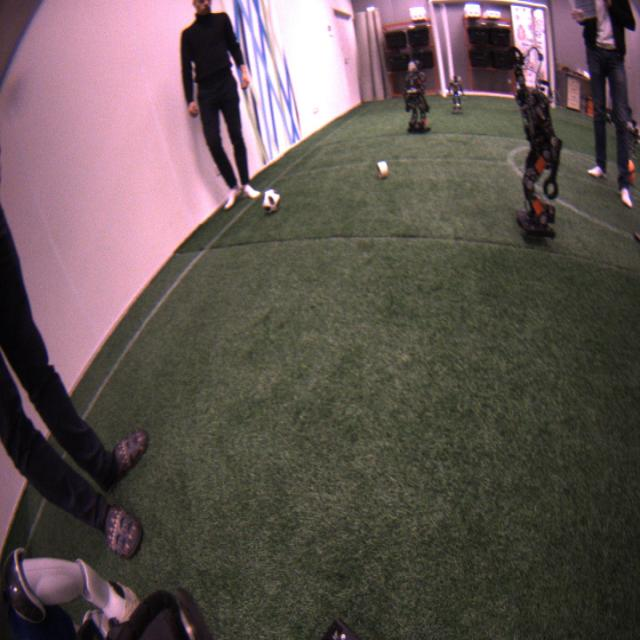ball: (262, 189, 281, 214), (626, 158, 634, 185)
goalpost: (427, 0, 448, 94), (542, 7, 558, 109)
